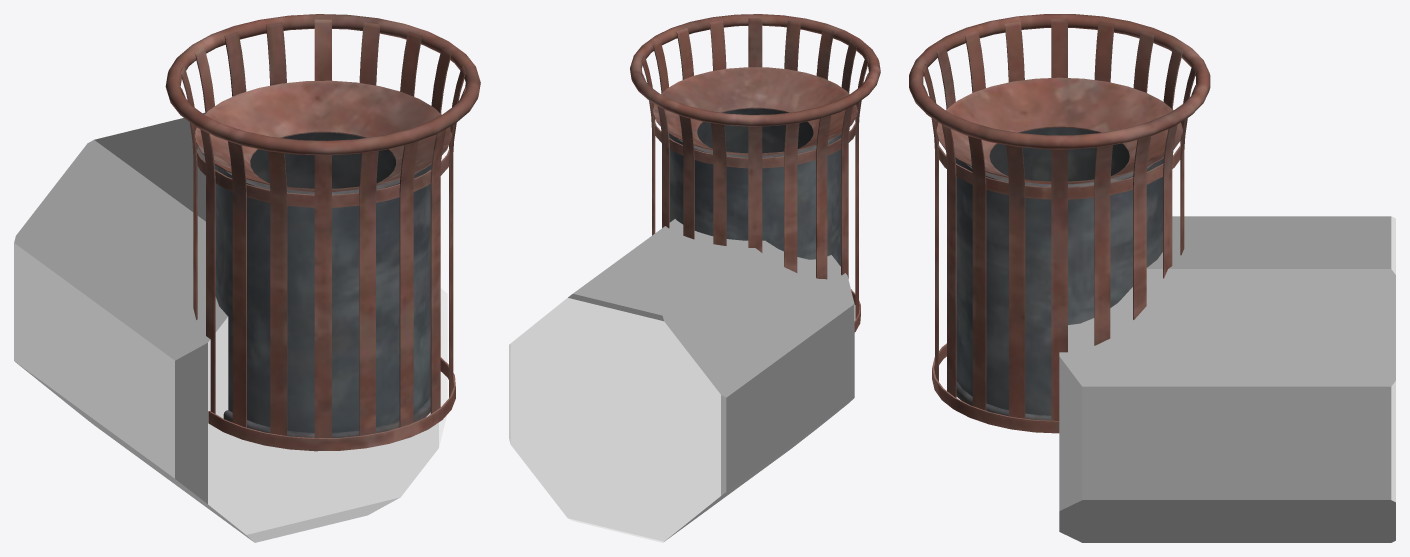
File: SM_Dustbin_05.fbx
3 renders of one model, left to right at view 1: azimuth 30°, elevation 25°; view 2: azimuth 150°, elevation 25°; view 3: azimuth 270°, elevation 25°, orthographic. The views are drawn at different scales.
Parts seen in each view (by area): view 1: SM_Dustbin_05_LOD0, SM_Dustbin_05_ConvexHulls; view 2: SM_Dustbin_05_ConvexHulls, SM_Dustbin_05_LOD0; view 3: SM_Dustbin_05_ConvexHulls, SM_Dustbin_05_LOD0.
Part boxes in pixels (bbox=[...]): SM_Dustbin_05_LOD0: bbox=[165, 14, 480, 451]; SM_Dustbin_05_ConvexHulls: bbox=[14, 112, 447, 542]; SM_Dustbin_05_ConvexHulls: bbox=[509, 219, 854, 542]; SM_Dustbin_05_LOD0: bbox=[630, 14, 880, 332]; SM_Dustbin_05_ConvexHulls: bbox=[1059, 216, 1395, 542]; SM_Dustbin_05_LOD0: bbox=[909, 14, 1210, 433].
Size of the model in its own units: 62.06 by 99.97 by 99.97.
